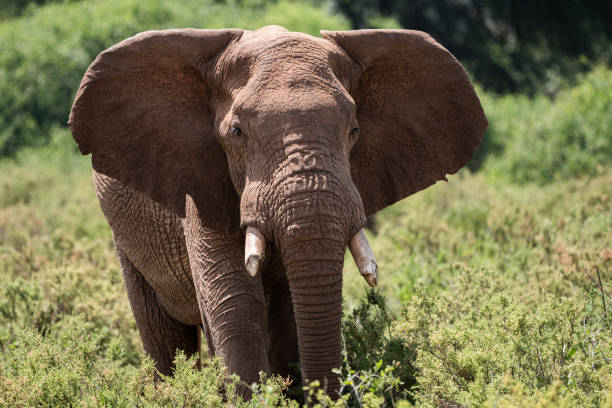africanelephant: (196, 24, 395, 300)
